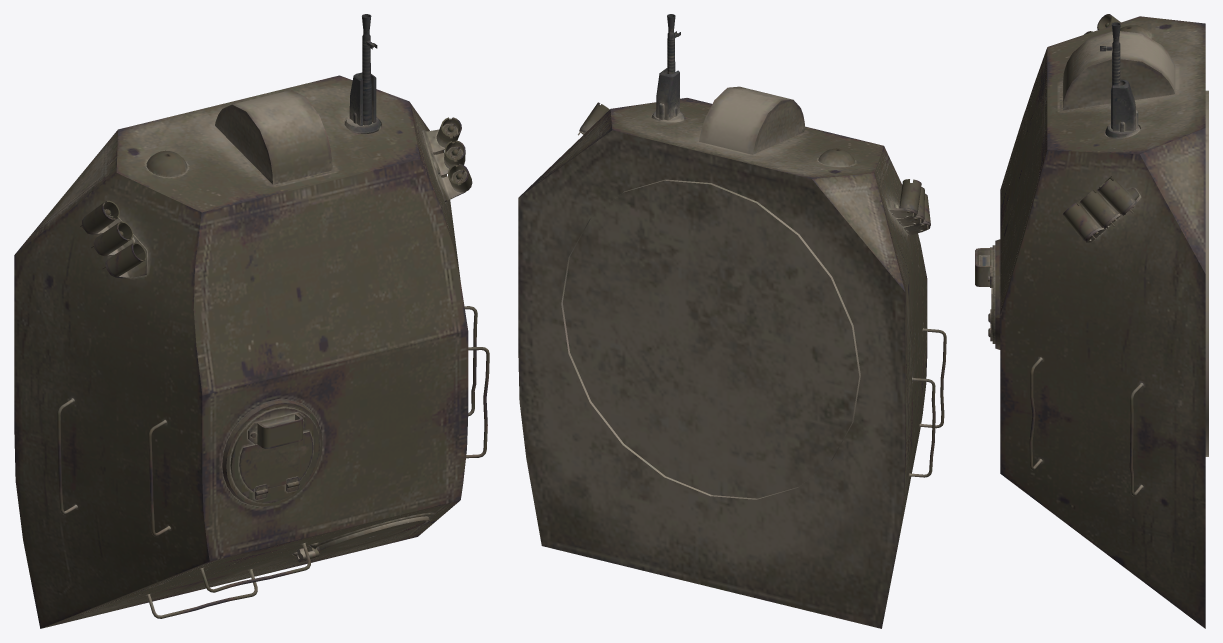
The model's file is Turret_02.glb.
The picture shows the model from 3 angles, left to right: view 1: azimuth 30°, elevation 25°; view 2: azimuth 150°, elevation 25°; view 3: azimuth 270°, elevation 25°; orthographic projection. The views are drawn at different scales.
Visible parts, largest first — view 1: set_0_group_0; view 2: set_0_group_0; view 3: set_0_group_0.
Boxes of the visible parts, box(x1,y1,x2,y2) form: set_0_group_0: box(14, 14, 489, 628); set_0_group_0: box(518, 14, 946, 628); set_0_group_0: box(975, 14, 1208, 628).
Bounding box in the file's own units: 2.16 × 2.78 × 1.05.
1 material, 1 textured.
